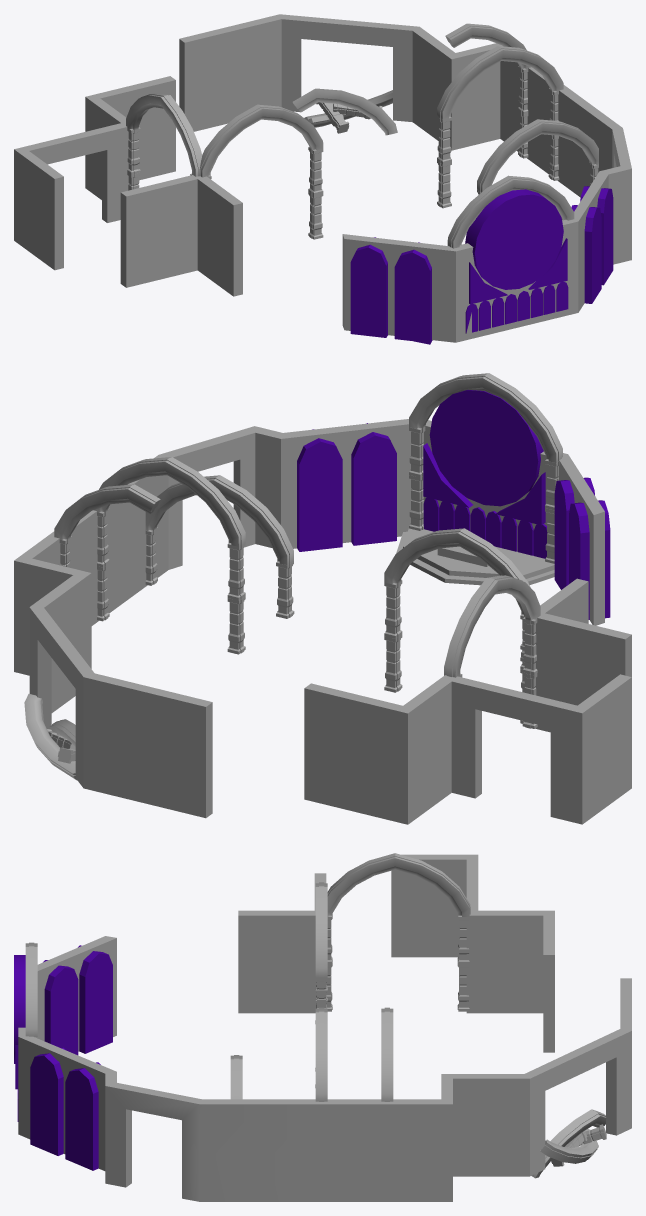
The model's file is Church_Raw (1).fbx.
3 views of the same model, one above another, from view 1: azimuth 30°, elevation 25°; view 2: azimuth 150°, elevation 25°; view 3: azimuth 270°, elevation 25° (orthographic). The views are drawn at different scales.
Parts seen in each view (by area): view 1: Exit_door, Side_Door, Front_Windows, polySurface7 (×4), pCylinder1, polySurface10, polySurface1, pCylinder12, polySurface8, polySurface2, Broken_Archway2, polySurface12 (+7 smaller); view 2: Side_Door, Exit_door, polySurface7 (×4), pCylinder1, Front_Windows, polySurface12, polySurface2, pCylinder12, pCube25 (×4), polySurface16, polySurface8, pCube27 (×3) (+8 smaller); view 3: Exit_door, Side_Door, polySurface7 (×4), Front_Windows, polySurface1, polySurface2, polySurface12, polySurface10, Broken_Archway, pCylinder1, Broken_Archway2, Broken_Archway1 (+1 smaller).
Part boxes in pixels (x1,y1,x2,y2): Exit_door: (179,14,631,264); Side_Door: (14,76,242,296); Front_Windows: (342,171,608,342); polySurface7 (×4): (126,46,574,248); pCylinder1: (465,189,563,289); polySurface10: (394,242,432,344); polySurface1: (350,237,387,337); pCylinder12: (465,282,568,333); polySurface8: (477,119,598,192); polySurface2: (571,205,601,303); Broken_Archway2: (292,88,397,135); polySurface12: (580,186,613,285); Side_Door: (304,578,631,824); Exit_door: (14,426,282,818); polySurface7 (×4): (94,373,562,677); pCylinder1: (429,390,543,506); Front_Windows: (281,419,604,625); polySurface12: (297,429,342,551); polySurface2: (351,423,396,545); pCylinder12: (423,497,547,558); pCube25 (×4): (227,427,537,675); polySurface16: (396,528,554,585); polySurface8: (145,475,293,564); pCube27 (×3): (227,475,423,692); Exit_door: (105,978,631,1201); Side_Door: (238,854,554,1052); polySurface7 (×4): (25,853,470,1101); Front_Windows: (18,936,116,1170); polySurface1: (78,945,112,1053); polySurface2: (30,1047,65,1155); polySurface12: (65,1062,100,1170); polySurface10: (43,960,78,1055); Broken_Archway: (381,1007,393,1101); pCylinder1: (14,955,25,1063); Broken_Archway2: (531,1109,606,1178); Broken_Archway1: (540,1129,598,1163).
Bounding box in the file's own units: 10592 × 3369 × 11084.
